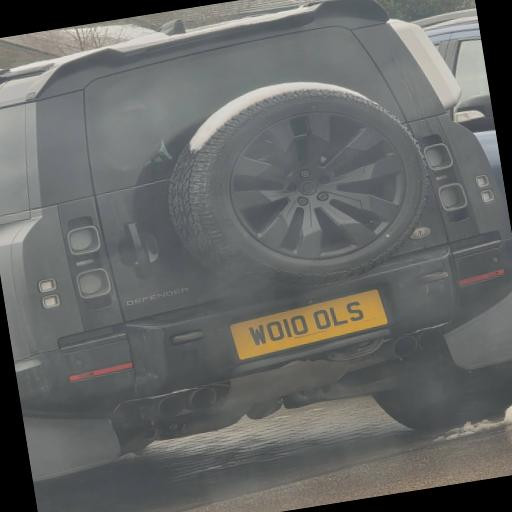numberplates: (231, 290, 387, 359)
